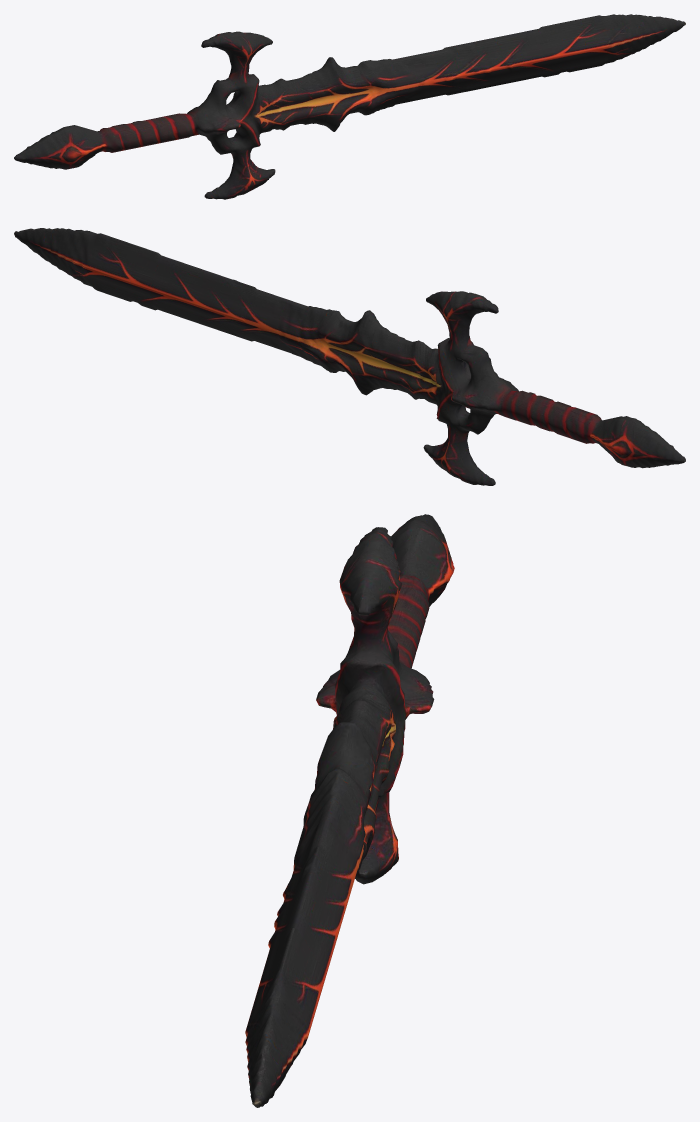
File: EmberveinGreatsword.glb
The picture shows the model from 3 angles, top to bottom: view 1: azimuth 30°, elevation 25°; view 2: azimuth 150°, elevation 25°; view 3: azimuth 270°, elevation 25°; orthographic projection. The views are drawn at different scales.
Visible parts, largest first — view 1: Mesh_0.001; view 2: Mesh_0.001; view 3: Mesh_0.001.
Boxes of the visible parts, left/top/right/bottom form: Mesh_0.001: left=14, top=14, right=685, bottom=199; Mesh_0.001: left=14, top=228, right=685, bottom=485; Mesh_0.001: left=245, top=514, right=454, bottom=1107.
Size of the model in its own units: 1.06 by 0.2662 by 0.1535.
1 material, 1 textured.
